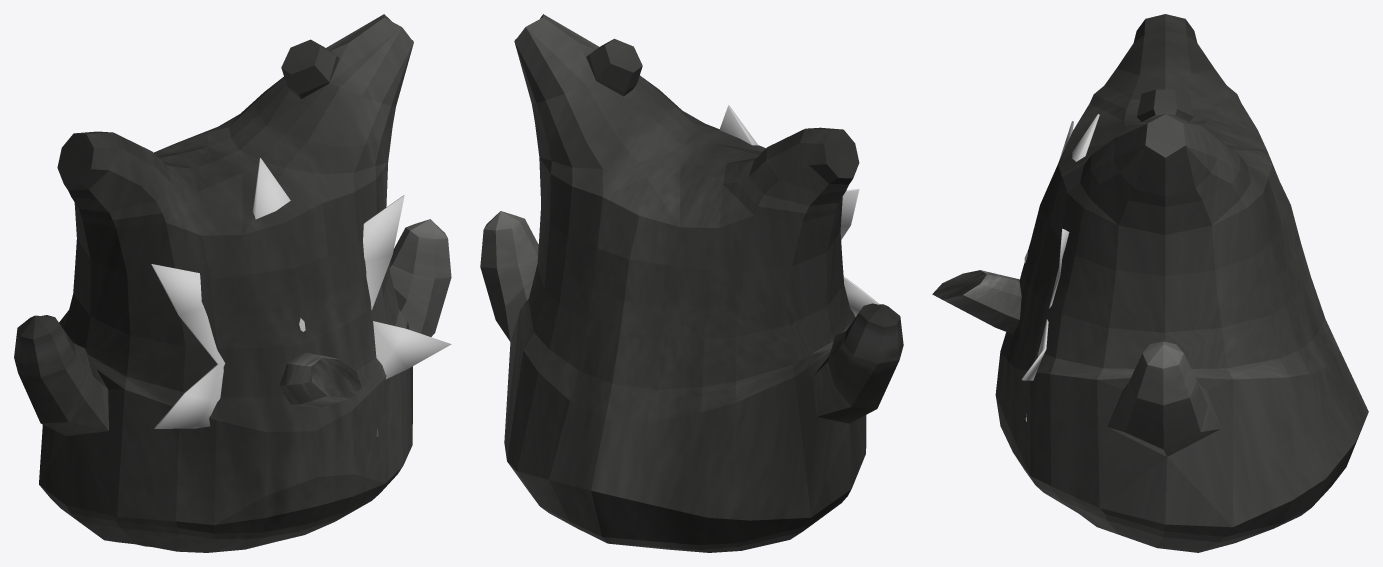
File: frame_0069.obj
The picture shows the model from 3 angles, left to right: view 1: azimuth 30°, elevation 25°; view 2: azimuth 150°, elevation 25°; view 3: azimuth 270°, elevation 25°; orthographic projection. The views are drawn at different scales.
Visible parts, largest first — view 1: korok, leaf.003_柱体.013, nose.003_柱体.011; view 2: korok, leaf.003_柱体.013; view 3: korok, nose.003_柱体.011, leaf.003_柱体.013.
Boxes of the visible parts, x1,y1,x2,y2 form: korok: (14,14,451,552); leaf.003_柱体.013: (151,158,451,436); nose.003_柱体.011: (279,353,361,408); korok: (480,14,903,552); leaf.003_柱体.013: (719,105,879,316); korok: (995,14,1368,552); nose.003_柱体.011: (932,270,1021,334); leaf.003_柱体.013: (1021,114,1099,421).
Bounding box in the file's own units: 1.52 × 1.61 × 1.36.
